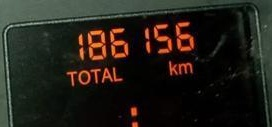1: (141, 26, 152, 54), (75, 31, 85, 61)
5: (152, 22, 173, 54)
6: (173, 20, 195, 52), (108, 26, 129, 59)
8: (85, 28, 107, 61)
X: (128, 104, 139, 127), (63, 69, 77, 87), (76, 68, 90, 85), (88, 67, 101, 84), (165, 58, 177, 76), (177, 61, 193, 74), (100, 66, 112, 83), (111, 66, 123, 82)
